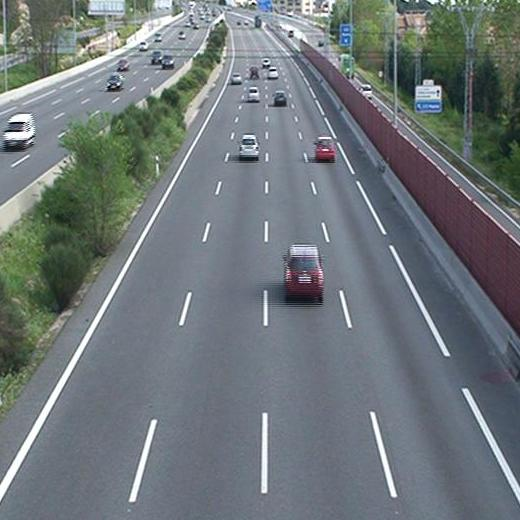car: (284, 245, 326, 298), (313, 135, 337, 160), (237, 134, 260, 157), (273, 90, 287, 106), (245, 87, 261, 101), (249, 64, 261, 79), (231, 72, 243, 86), (266, 66, 279, 78)
